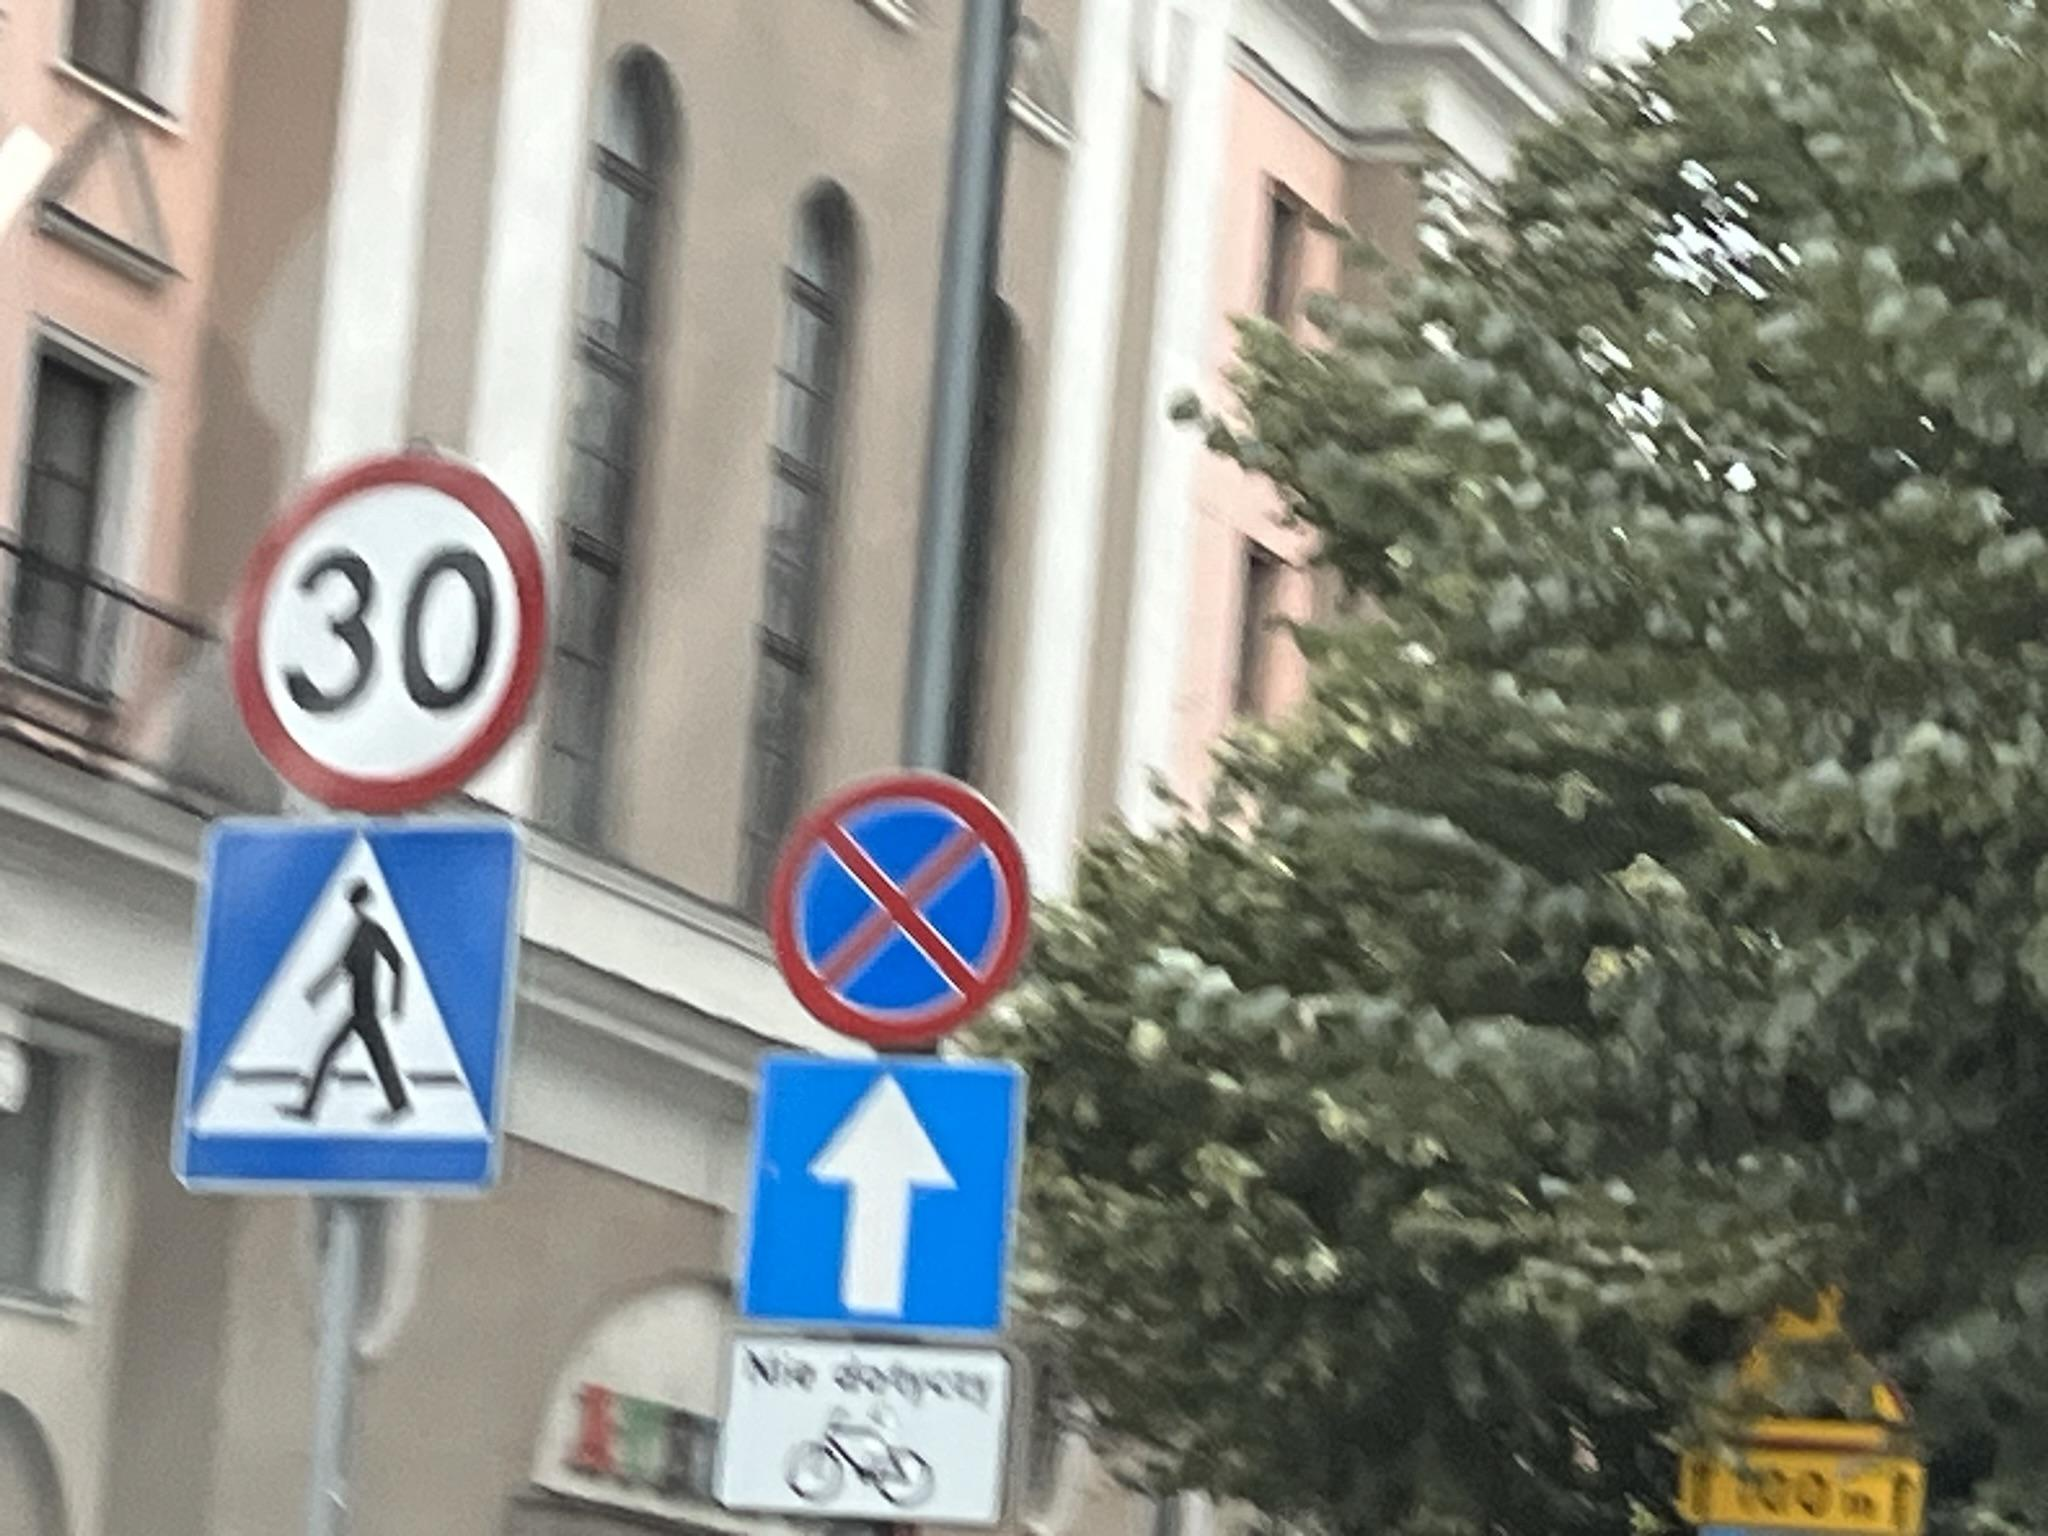information: (168, 812, 526, 1202), (734, 1055, 1032, 1333)
other: (710, 1328, 1018, 1528), (1672, 1450, 1925, 1533)
prohibitory: (224, 442, 555, 816), (766, 766, 1032, 1049)
warning: (1696, 1278, 1922, 1447)
